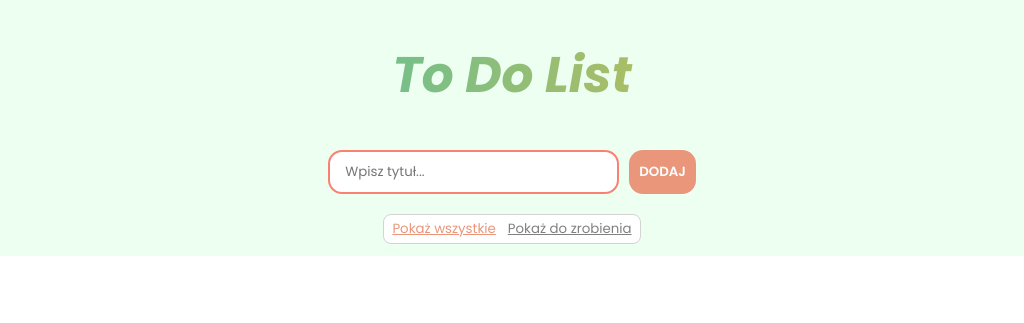
Test case: ToDoList view integration test › Should show the item
In the field with placeholder "Wpisz tytuł...": coordinates (474, 172) [328,150,619,194], type "Yolo"
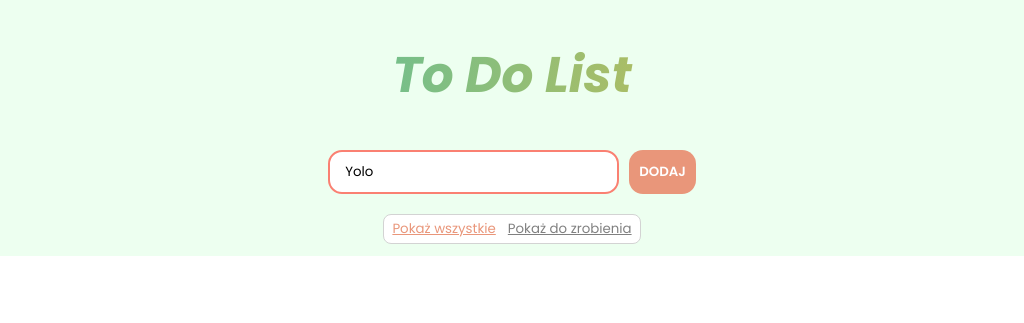
Submit the form with class "add-item-form", box [328,150,696,194]
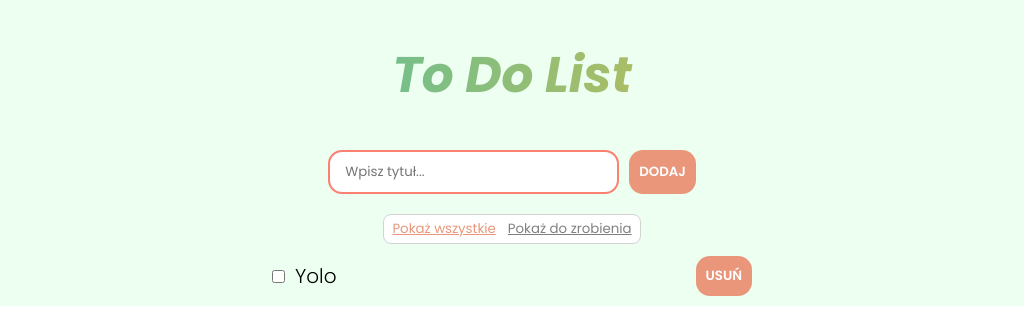
Result: the element with class "items-list" shows "Yolo" at [295,262,336,290]
